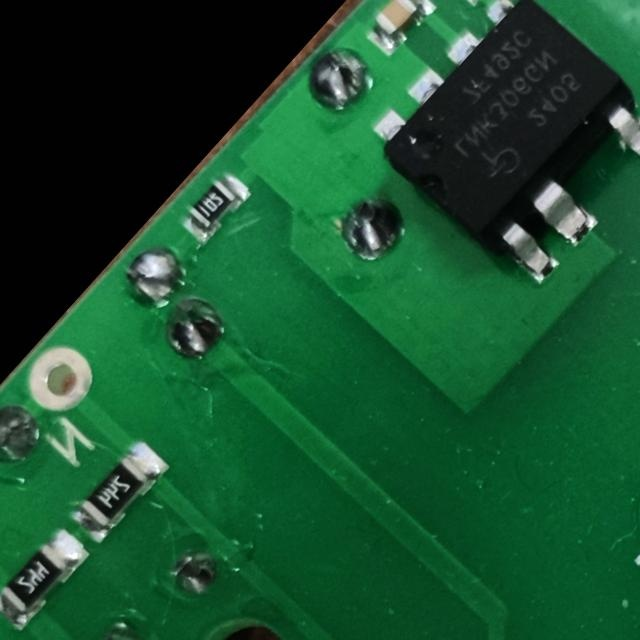chip-capacitor: (359, 0, 440, 61)
chip-resistor: (66, 435, 174, 548), (0, 522, 93, 633), (173, 165, 256, 250)
ic: (361, 0, 640, 299)
